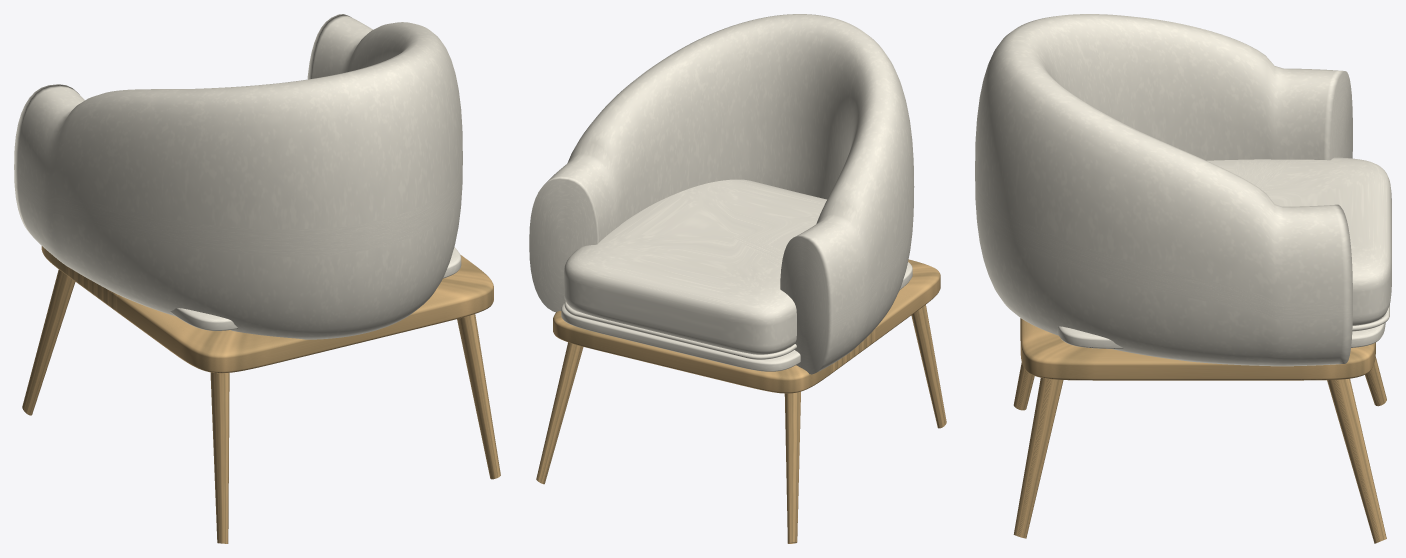
The model's file is luna_accent_chair.glb.
3 views of the same model, side by side, from view 1: azimuth 30°, elevation 25°; view 2: azimuth 150°, elevation 25°; view 3: azimuth 270°, elevation 25° (orthographic). The views are drawn at different scales.
Visible parts, largest first — view 1: Upholstered Tub Shell, Oak Base Rail, Rear Right Leg, Rear Left Leg, Front Right Leg, Upholstered Seat Deck; view 2: Upholstered Tub Shell, Loose Seat Cushion, Oak Base Rail, Upholstered Seat Deck, Front Right Leg, Front Left Leg, Rear Right Leg, Cushion Lower Piping; view 3: Upholstered Tub Shell, Loose Seat Cushion, Oak Base Rail, Front Left Leg, Rear Left Leg, Upholstered Seat Deck, Rear Right Leg, Front Right Leg.
Boxes of the visible parts, <box> form: Upholstered Tub Shell: <box>14,14,462,339</box>; Oak Base Rail: <box>41,246,493,373</box>; Rear Right Leg: <box>210,372,229,543</box>; Rear Left Leg: <box>457,314,500,479</box>; Front Right Leg: <box>22,269,75,415</box>; Upholstered Seat Deck: <box>170,247,461,330</box>; Upholstered Tub Shell: <box>529,14,914,374</box>; Loose Seat Cushion: <box>564,179,826,354</box>; Oak Base Rail: <box>553,259,940,393</box>; Upholstered Seat Deck: <box>561,262,912,371</box>; Front Right Leg: <box>784,391,800,543</box>; Front Left Leg: <box>536,342,583,484</box>; Rear Right Leg: <box>911,305,946,428</box>; Cushion Lower Piping: <box>564,301,796,359</box>; Upholstered Tub Shell: <box>975,14,1352,366</box>; Loose Seat Cushion: <box>1207,157,1391,325</box>; Oak Base Rail: <box>1020,318,1375,380</box>; Front Left Leg: <box>1327,378,1386,543</box>; Rear Left Leg: <box>1013,378,1063,538</box>; Upholstered Seat Deck: <box>1057,317,1385,348</box>; Rear Right Leg: <box>1013,362,1034,410</box>; Front Right Leg: <box>1365,357,1386,406</box>.
Size of the model in its own units: 0.7 by 0.82 by 0.72.
Materials: 2 (2 with a texture image).
